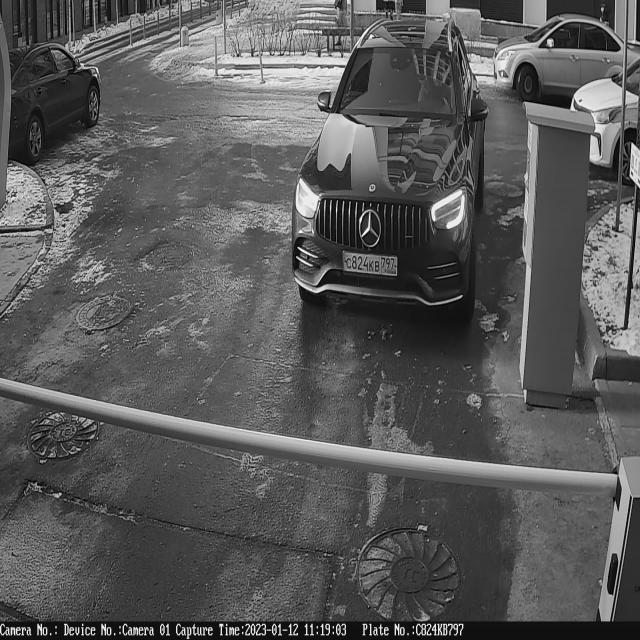car-plate-numbers: (340, 247, 404, 285)
